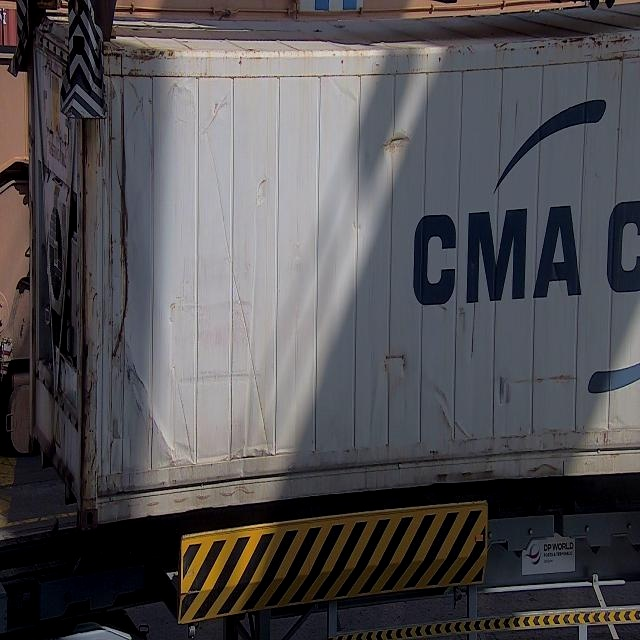Dent: (123, 368, 212, 468)
Hole: (390, 130, 411, 155), (382, 349, 409, 367)
Rusty: (77, 153, 107, 525), (108, 81, 129, 355)
